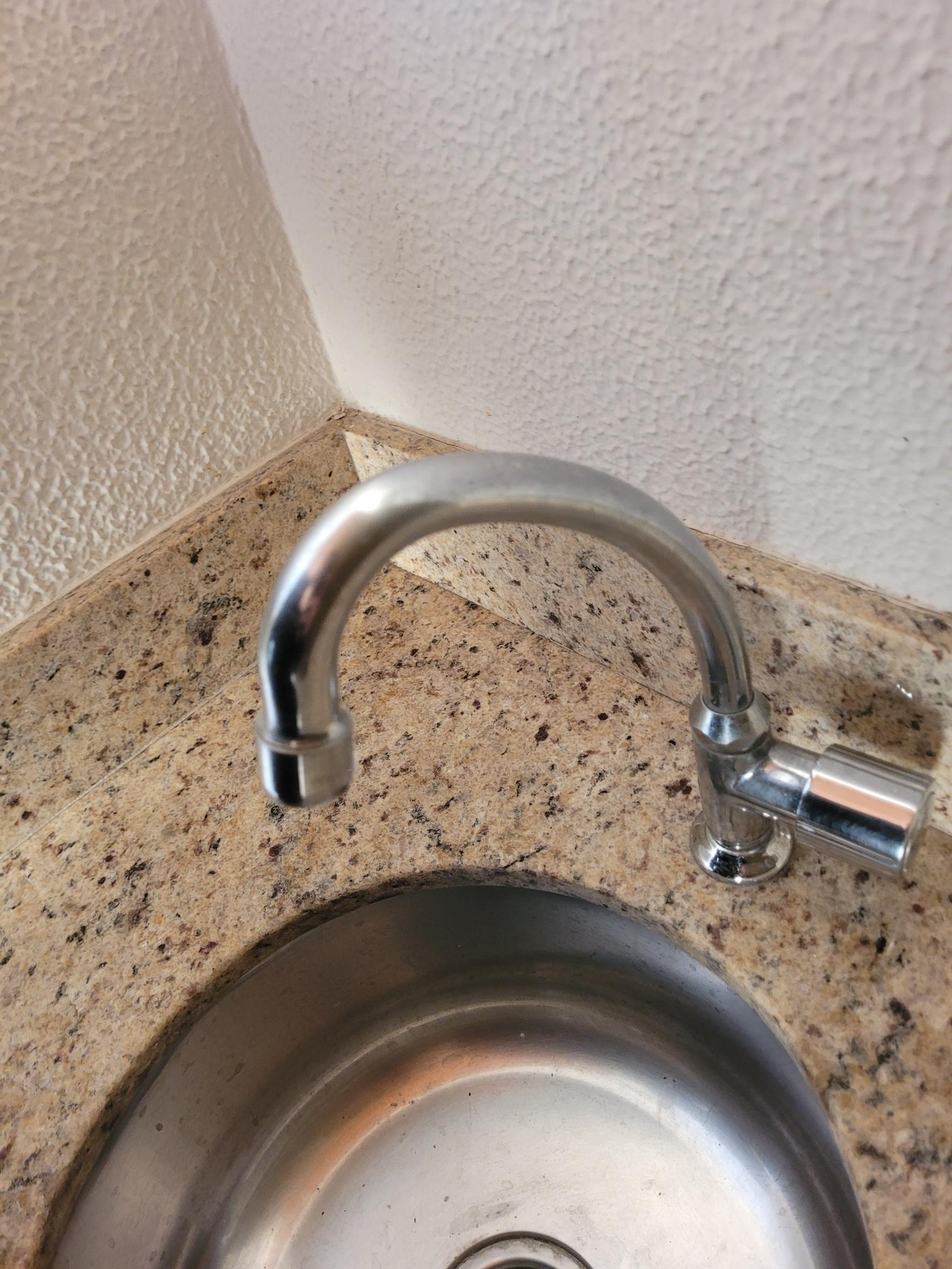torneira_fechada: (198, 427, 947, 990)
